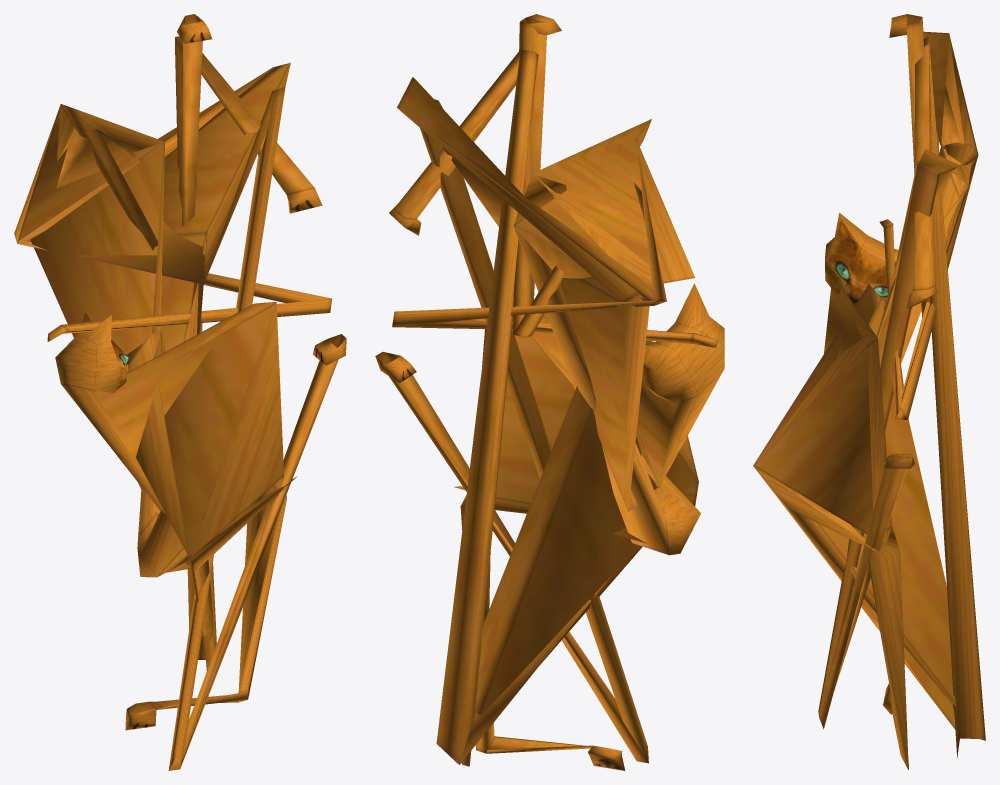
3 renders of one model, left to right at view 1: azimuth 30°, elevation 25°; view 2: azimuth 150°, elevation 25°; view 3: azimuth 270°, elevation 25°, orthographic. The views are drawn at different scales.
Visible parts, largest first — view 1: T1L8M004_13; view 2: T1L8M004_13; view 3: T1L8M004_13.
Part boxes in pixels (x1,y1,x2,y2): T1L8M004_13: [14, 14, 346, 770]; T1L8M004_13: [375, 14, 724, 770]; T1L8M004_13: [753, 14, 985, 769].
Bounding box in the file's own units: 0.5792 × 1.26 × 0.3594.
